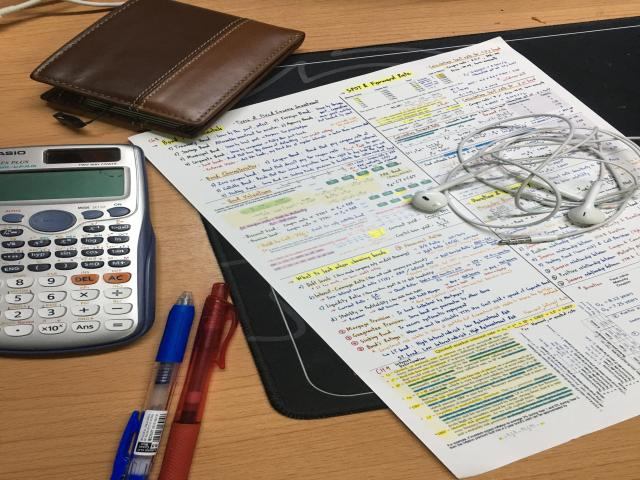Pen: (158, 283, 238, 480), (125, 292, 195, 480)
Wallet: (30, 0, 305, 138)
paper: (132, 38, 638, 477)
wire: (412, 113, 638, 245)
